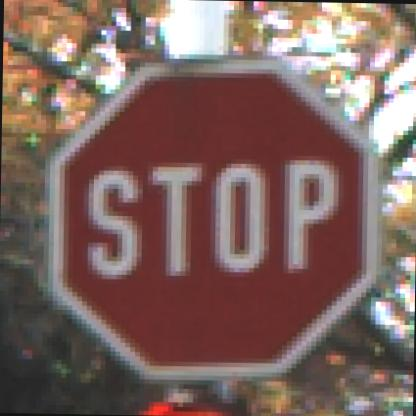stop: (27, 41, 402, 390)
